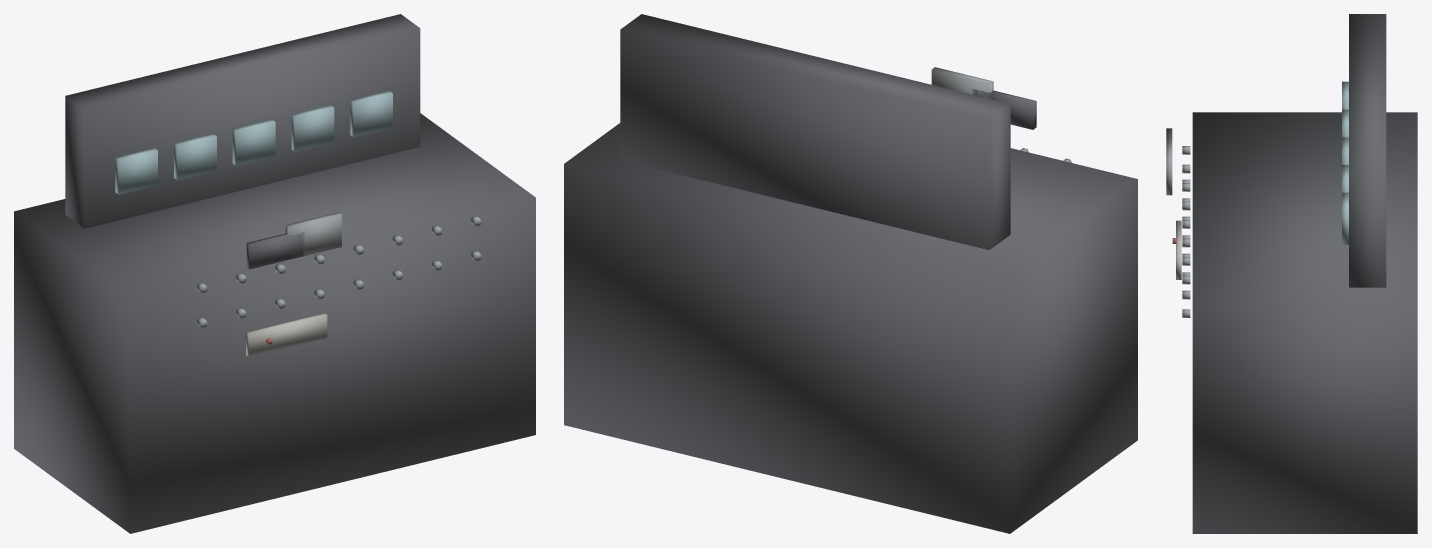
The model's file is pa_rack__weathered.glb.
3 renders of one model, left to right at view 1: azimuth 30°, elevation 25°; view 2: azimuth 150°, elevation 25°; view 3: azimuth 270°, elevation 25°, orthographic. The views are drawn at different scales.
Parts seen in each view (by area): view 1: world; view 2: world; view 3: world.
Boxes of the visible parts, box(x1,y1,x2,y2) form: world: box(14, 14, 535, 533); world: box(564, 14, 1137, 533); world: box(1166, 14, 1417, 533).
Size of the model in its own units: 1.45 by 1.22 by 0.8043.
